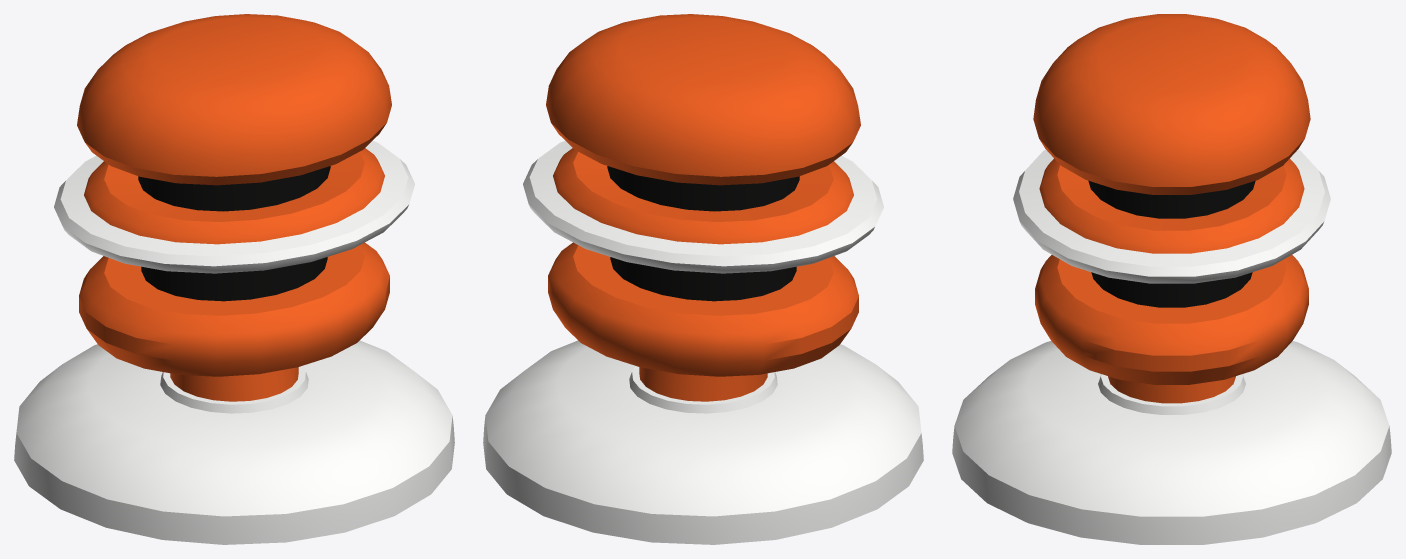
File: obstacles1.fbx
The picture shows the model from 3 angles, left to right: view 1: azimuth 30°, elevation 25°; view 2: azimuth 150°, elevation 25°; view 3: azimuth 270°, elevation 25°; orthographic projection.
Visible parts, largest first — view 1: obstacle1; view 2: obstacle1; view 3: obstacle1.
Part boxes in pixels (x1,y1,x2,y2): obstacle1: [14, 14, 454, 544]; obstacle1: [483, 14, 923, 544]; obstacle1: [952, 14, 1391, 544].
Bounding box in the file's own units: 2.03 × 2.05 × 2.05.
